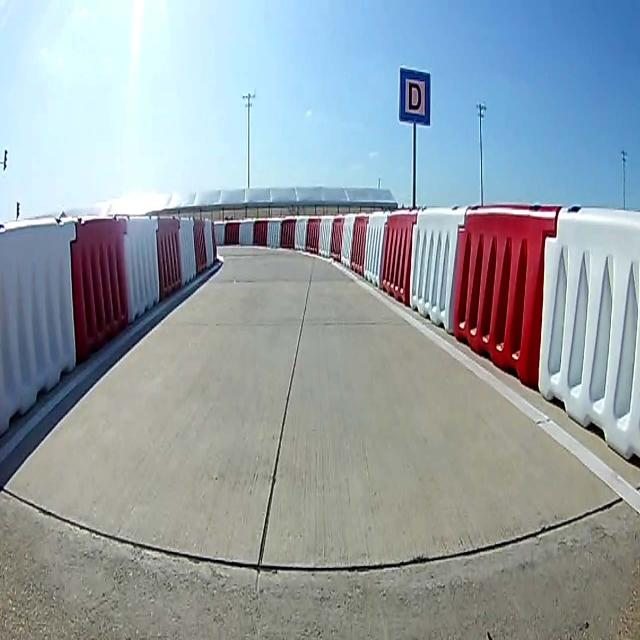durak: (399, 66, 431, 122)
